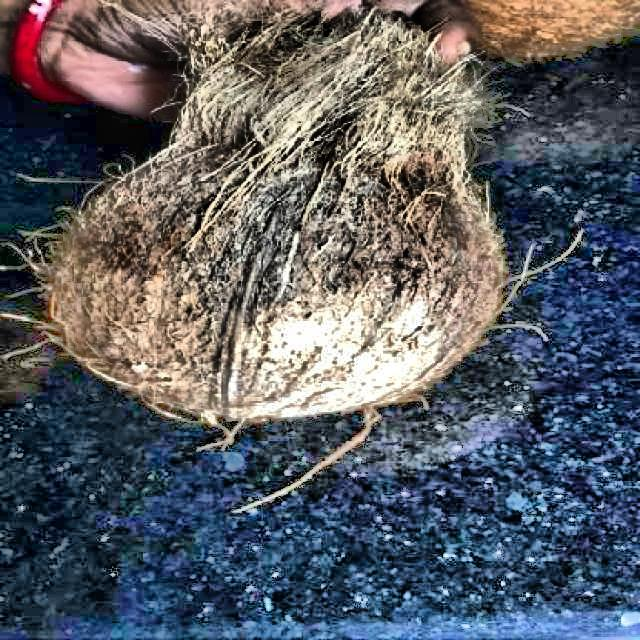good: (44, 20, 516, 422)
